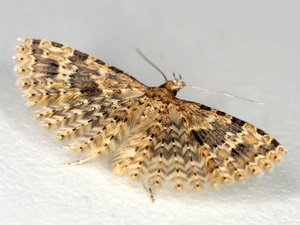Alucitidae: (12, 37, 292, 205)
moth: (10, 35, 290, 203)
